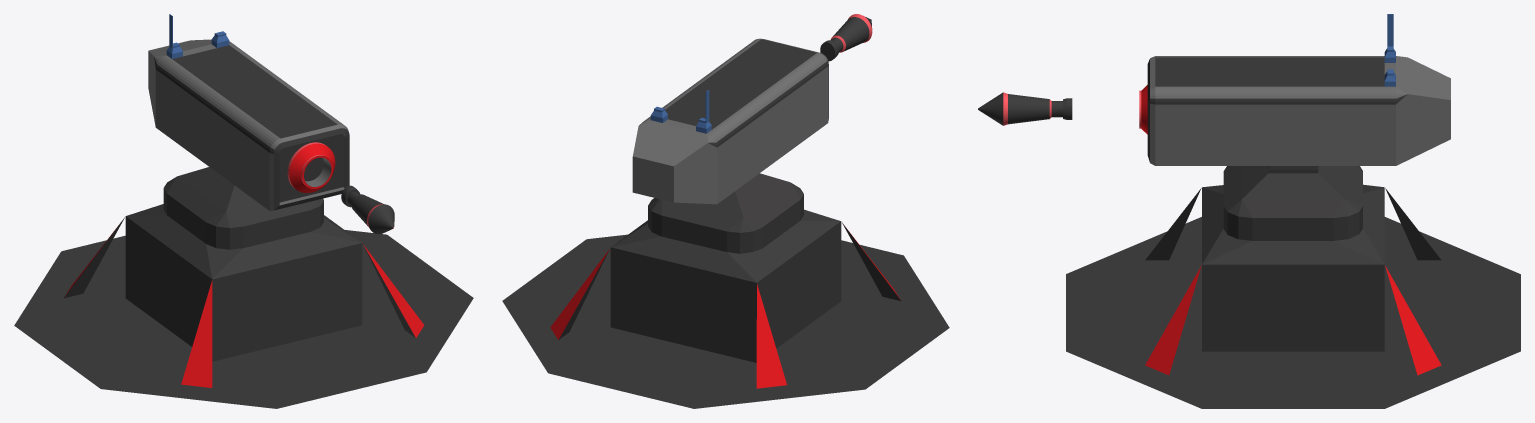
File: RocketLouncher.fbx
3 renders of one model, left to right at view 1: azimuth 30°, elevation 25°; view 2: azimuth 150°, elevation 25°; view 3: azimuth 270°, elevation 25°, orthographic. The views are drawn at different scales.
Parts seen in each view (by area): view 1: Holder, Body, Rocket; view 2: Holder, Body, Rocket; view 3: Holder, Body, Rocket.
Boxes of the visible parts, x1=… form: Holder: x1=14, y1=167, x2=473, y2=408; Body: x1=148, y1=14, x2=349, y2=210; Rocket: x1=341, y1=185, x2=394, y2=234; Holder: x1=502, y1=173, x2=949, y2=408; Body: x1=632, y1=38, x2=828, y2=204; Rocket: x1=820, y1=14, x2=872, y2=61; Holder: x1=1066, y1=166, x2=1520, y2=408; Body: x1=1139, y1=14, x2=1450, y2=165; Rocket: x1=978, y1=92, x2=1072, y2=125.
Size of the model in its own units: 334 by 231 by 399.
